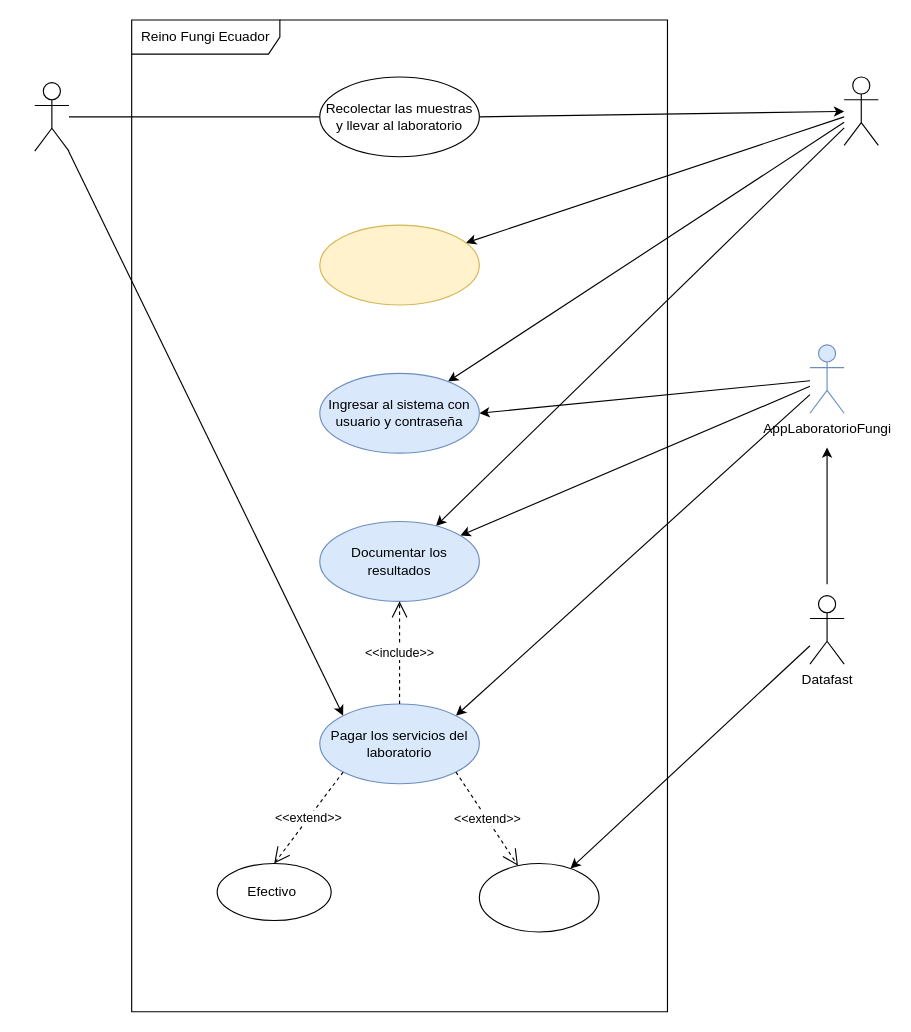
The diagram is 911 pixels wide and 1032 high, and some of its shapes have lost their labels. Here are the shapes that lost their labels. From the top down, the box of each, then its label:
(34, 82, 69, 151): Recolector
(843, 76, 878, 145): Micologo
(319, 224, 479, 305): Cultivar los hongos
(478, 862, 599, 932): Tarjeta de crédito
